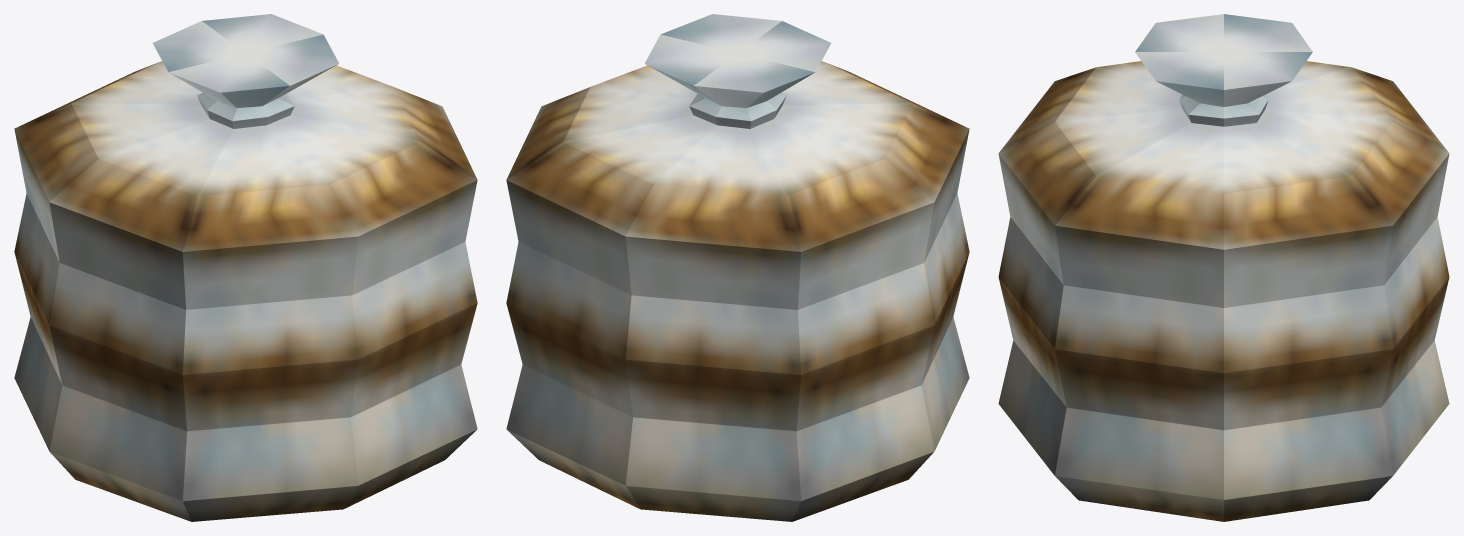
File: Poly_Grassfed_02.obj
3 renders of one model, left to right at view 1: azimuth 30°, elevation 25°; view 2: azimuth 150°, elevation 25°; view 3: azimuth 270°, elevation 25°, orthographic.
Parts seen in each view (by area): view 1: Cube_Cube.001; view 2: Cube_Cube.001; view 3: Cube_Cube.001.
Boxes of the visible parts, x1,y1,x2,y2 form: Cube_Cube.001: (14, 14, 477, 521); Cube_Cube.001: (506, 14, 969, 521); Cube_Cube.001: (998, 14, 1449, 521).
Bounding box in the file's own units: 1.3 × 1.22 × 1.29.
Materials: 1 (1 with a texture image).
